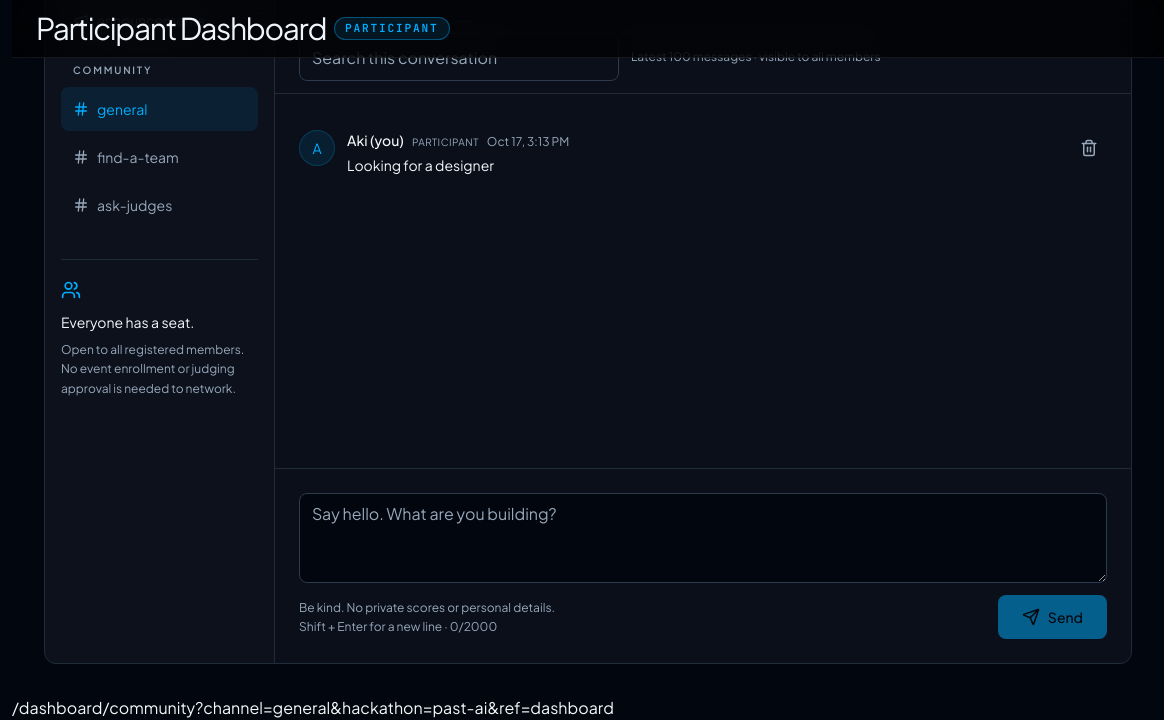
Test case: community networking channel › cleans up room listeners and ignores stale snapshots after switching channels
The image size is (1164, 720).
(page scrolled)
In the text box named "Message #": (703, 538) [299,494,1107,584], type "General draft"
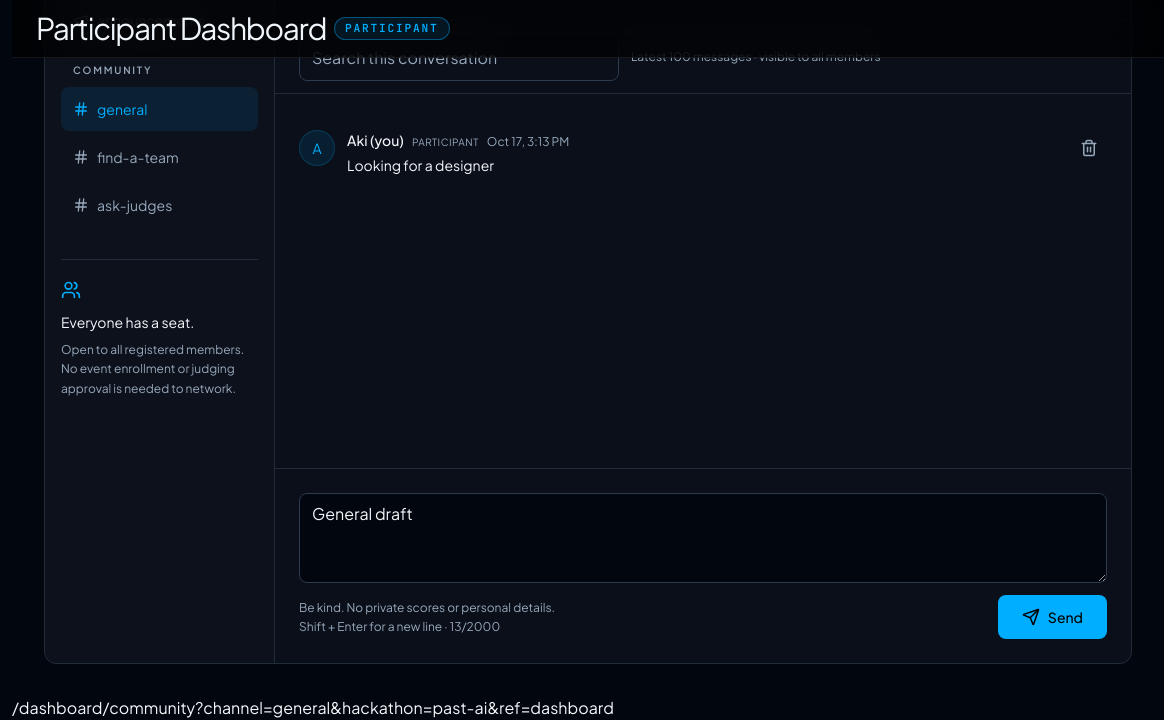
Click the button "find-a-team": (160, 157) [61,135,258,179]
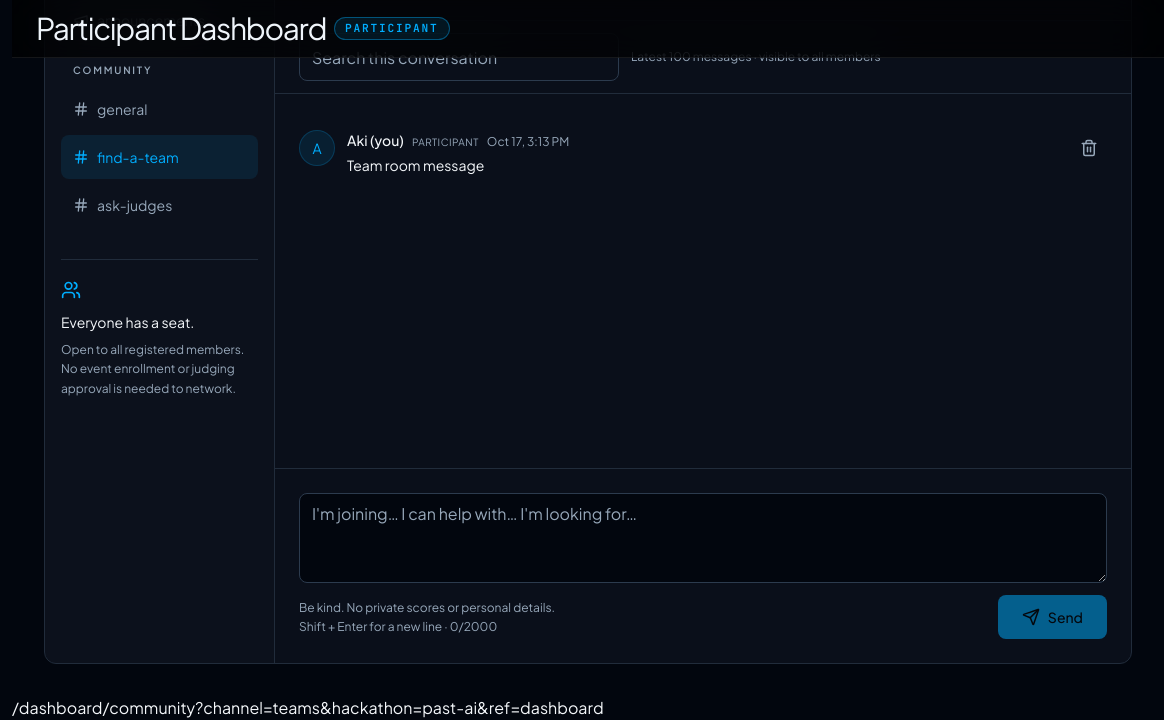
Result: the text box named "Message #find-a-team" is empty at [299,494,1107,584]
Result: the text "Team room message" is shown at [347,156,484,174]
